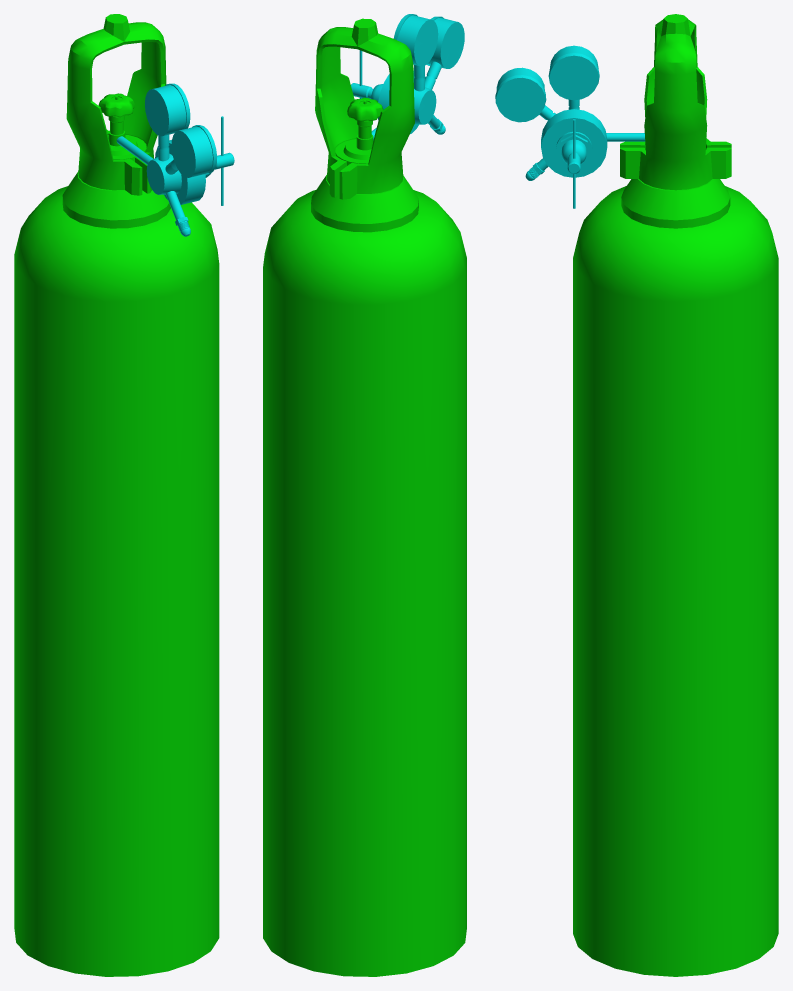
The model's file is seguranca-obj_cilindrogrande.fbx.
3 views of the same model, side by side, from view 1: azimuth 30°, elevation 25°; view 2: azimuth 150°, elevation 25°; view 3: azimuth 270°, elevation 25° (orthographic).
Visible parts, largest first — view 1: Cilindro_Preto, polySurface30; view 2: Cilindro_Preto, polySurface30; view 3: Cilindro_Preto, polySurface30.
Part boxes in pixels (box(x1,y1,x2,y2)): Cilindro_Preto: box(14, 14, 219, 976); polySurface30: box(116, 83, 216, 236); Cilindro_Preto: box(263, 18, 466, 976); polySurface30: box(371, 14, 464, 140); Cilindro_Preto: box(573, 14, 778, 976); polySurface30: box(495, 45, 645, 180).
Bounding box in the file's own units: 6.23 × 30.53 × 8.57.
